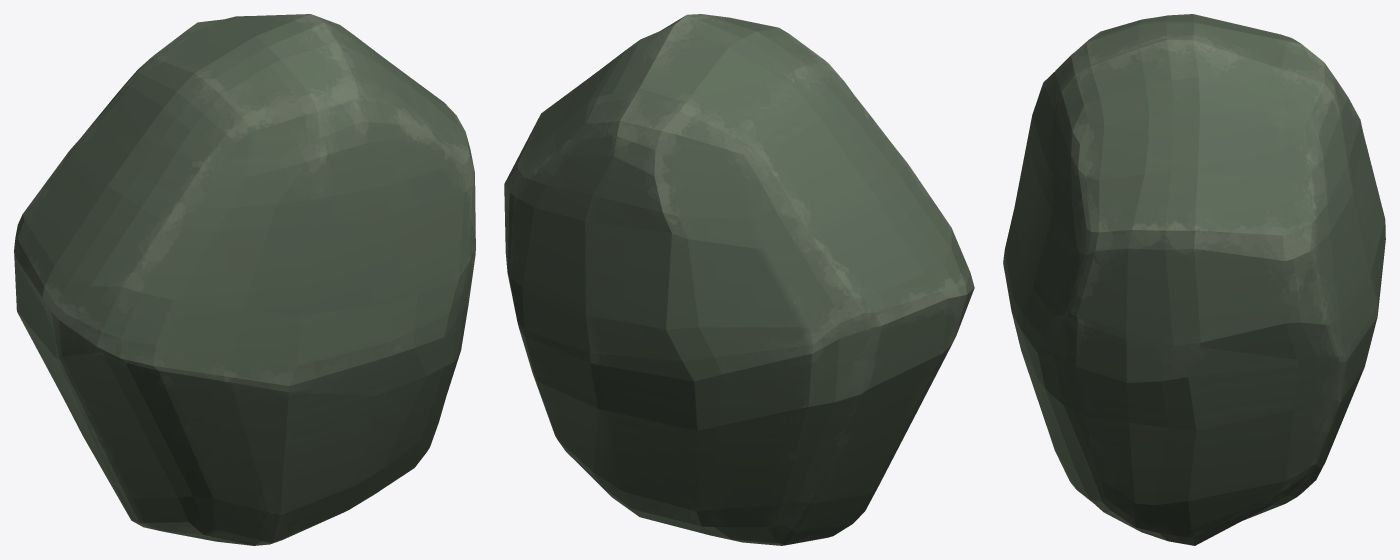
The model's file is ROCHE_LOW_Poly_02.fbx.
3 renders of one model, left to right at view 1: azimuth 30°, elevation 25°; view 2: azimuth 150°, elevation 25°; view 3: azimuth 270°, elevation 25°, orthographic. The views are drawn at different scales.
Visible parts, largest first — view 1: ROCHE_LOW_Poly_02; view 2: ROCHE_LOW_Poly_02; view 3: ROCHE_LOW_Poly_02.
Boxes of the visible parts, <box> form: ROCHE_LOW_Poly_02: <box>14,14,475,545</box>; ROCHE_LOW_Poly_02: <box>504,14,974,545</box>; ROCHE_LOW_Poly_02: <box>1003,14,1385,545</box>.
Bounding box in the file's own units: 171 × 197 × 135.
1 material, 1 textured.
